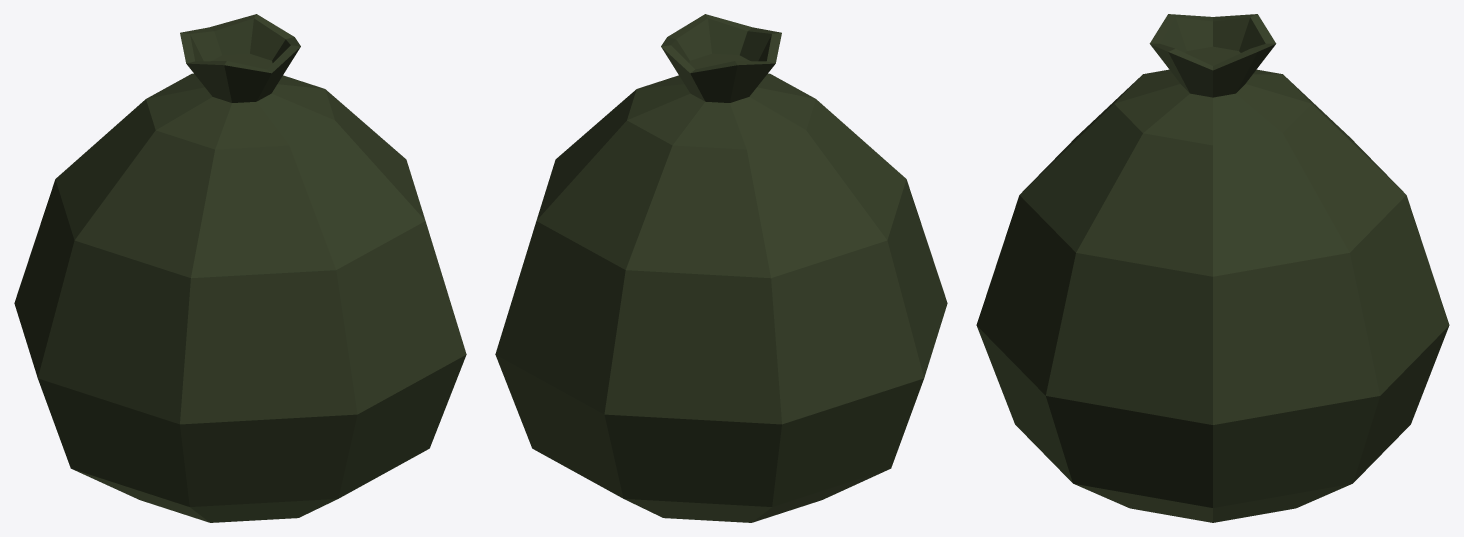
Rendered from Prop_TrashBag_01.fbx.
3 renders of one model, left to right at view 1: azimuth 30°, elevation 25°; view 2: azimuth 150°, elevation 25°; view 3: azimuth 270°, elevation 25°, orthographic.
Parts seen in each view (by area): view 1: Prop_TrashBag_01; view 2: Prop_TrashBag_01; view 3: Prop_TrashBag_01.
Boxes of the visible parts, x1=… form: Prop_TrashBag_01: x1=14, y1=14, x2=466, y2=522; Prop_TrashBag_01: x1=495, y1=14, x2=947, y2=522; Prop_TrashBag_01: x1=976, y1=14, x2=1449, y2=522.
Size of the model in its own units: 57.67 by 59.24 by 57.67.
